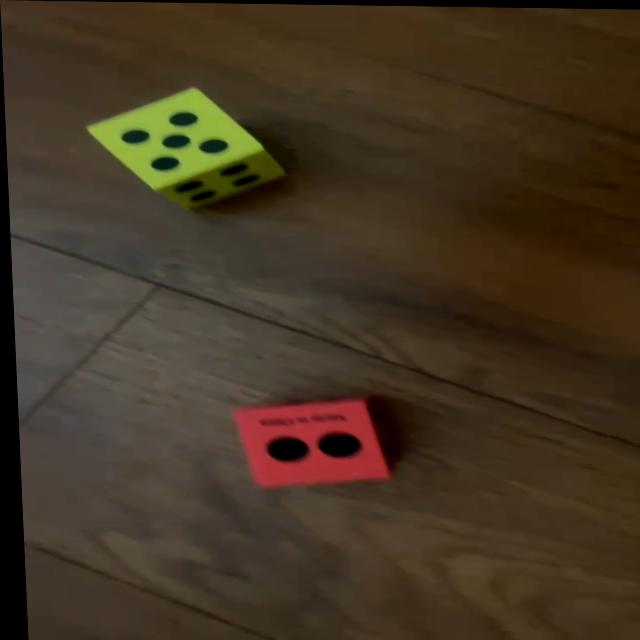cube: (227, 390, 386, 487)
